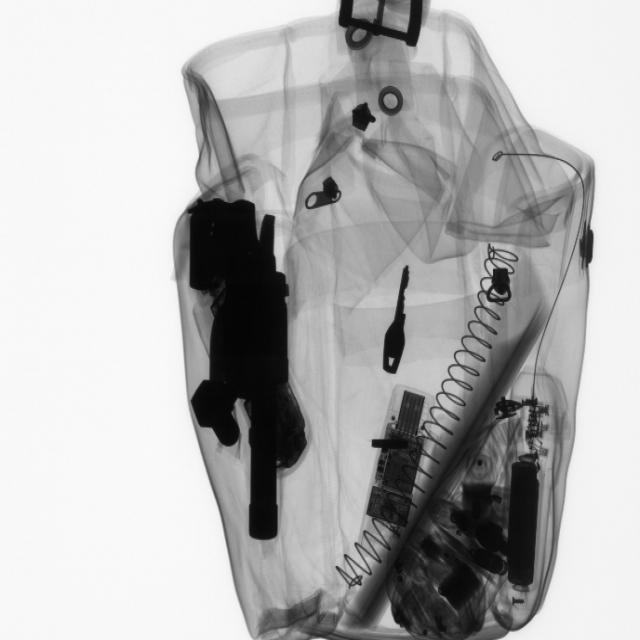GUN: (189, 187, 300, 559)
